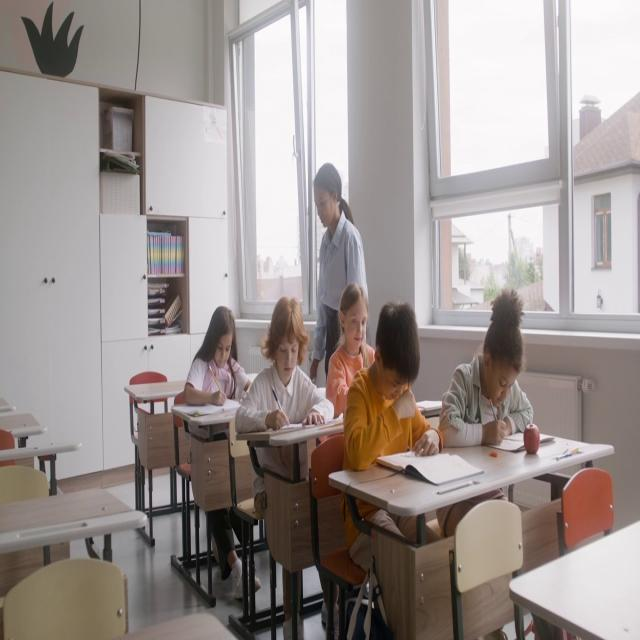writing: (338, 302, 441, 640), (185, 310, 261, 596), (324, 282, 376, 616), (438, 289, 533, 451), (236, 297, 328, 458)
